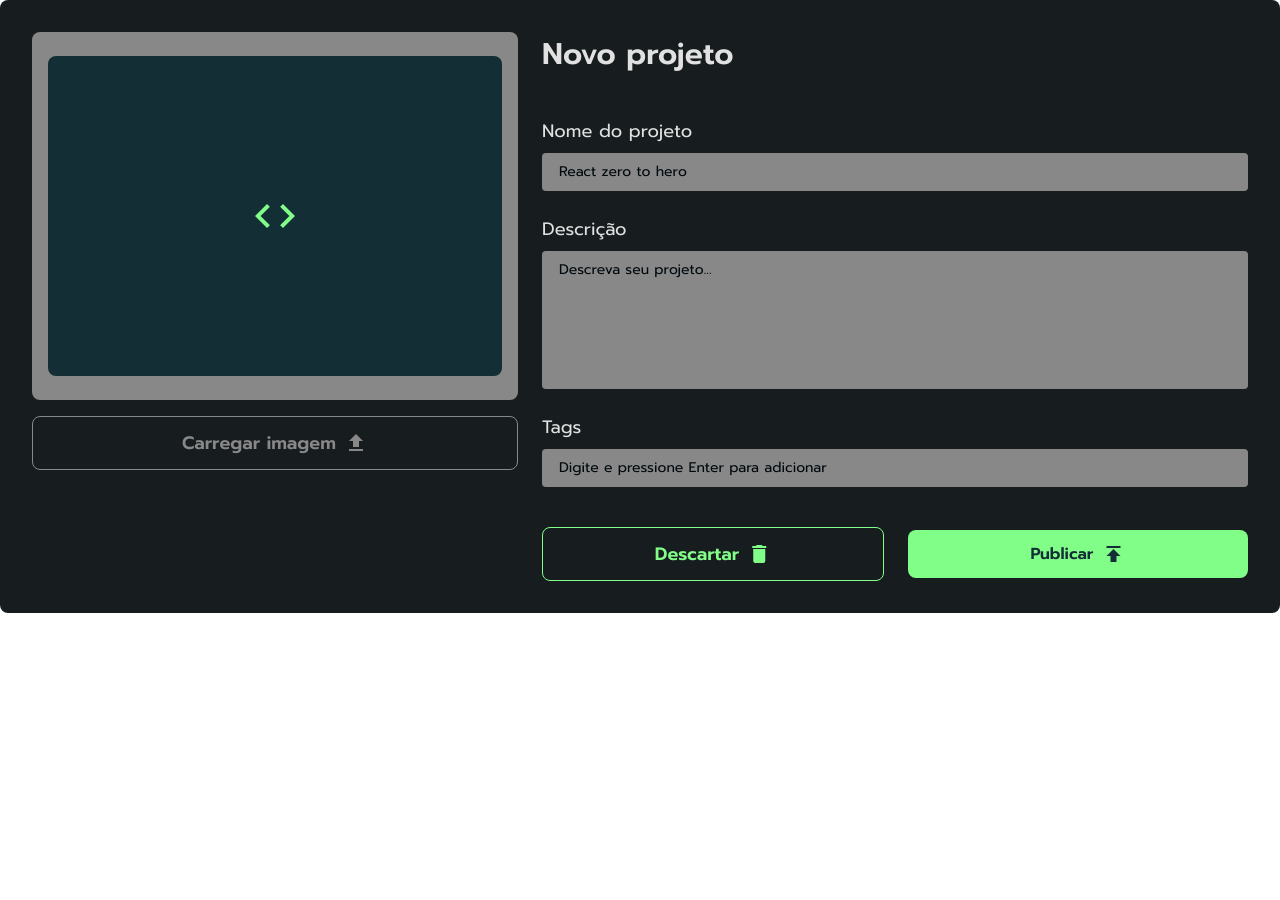
Test: PublishPage › adds tags when pressing Enter
Type "React" into the field labelled "Tags".
click(895, 468); type("React")  # box [542,449,1248,487]
Then press Enter
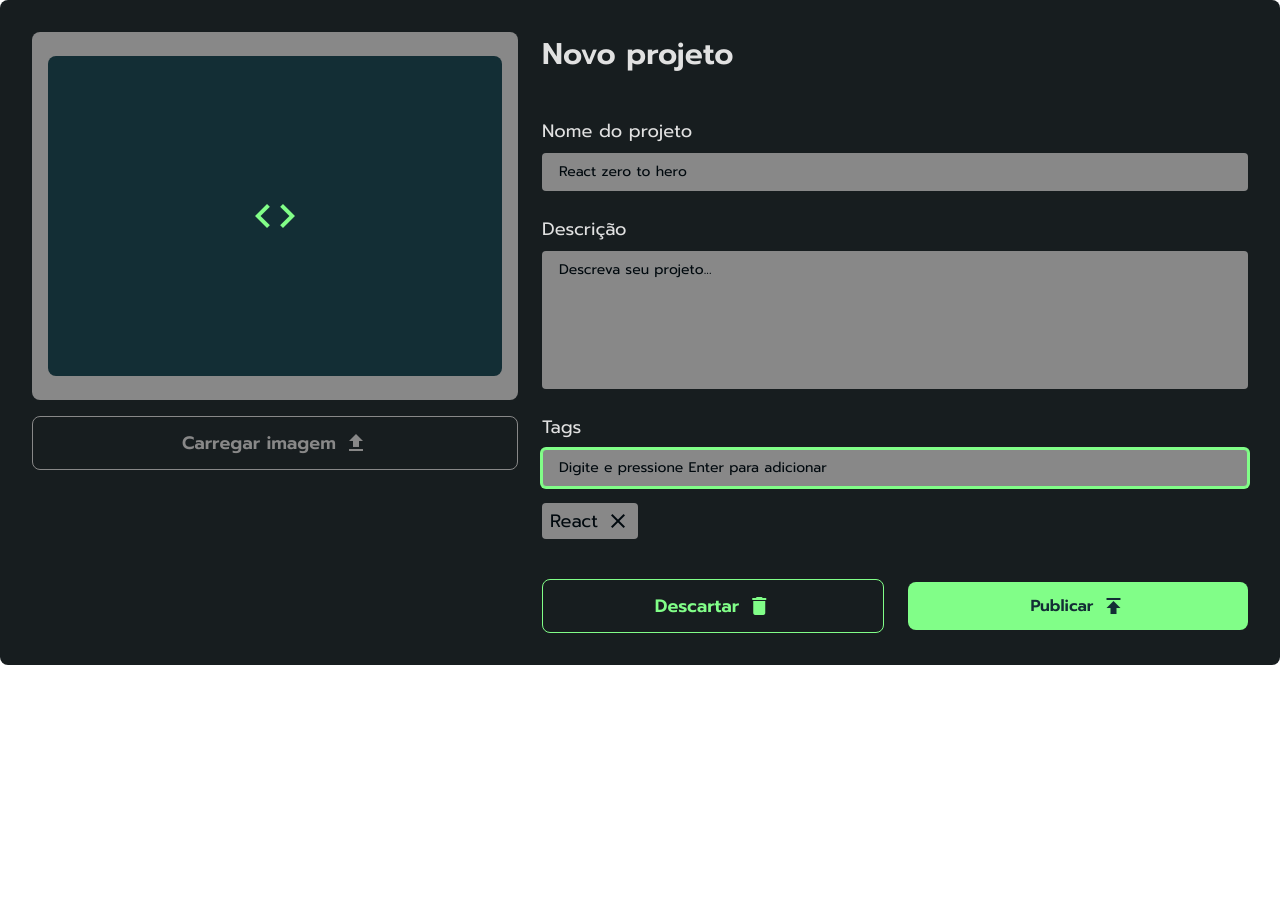
Expected: the text "React" is shown, [542,503,638,539]
